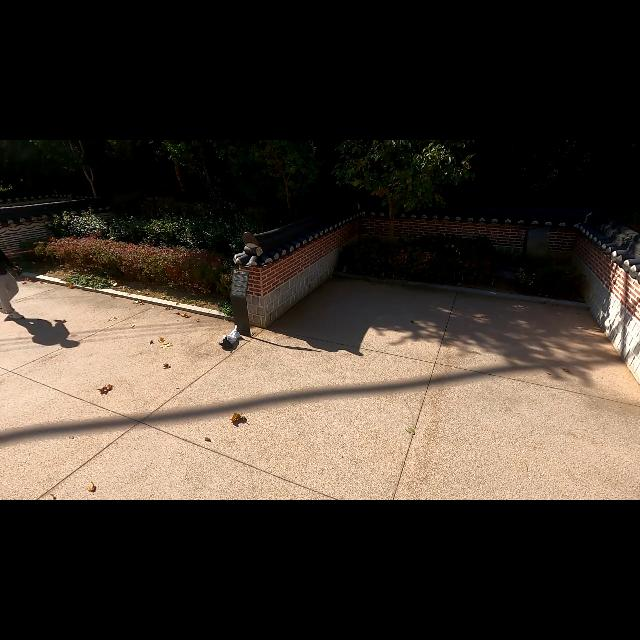trash: (219, 336, 235, 350), (228, 326, 242, 339), (222, 334, 238, 344)
